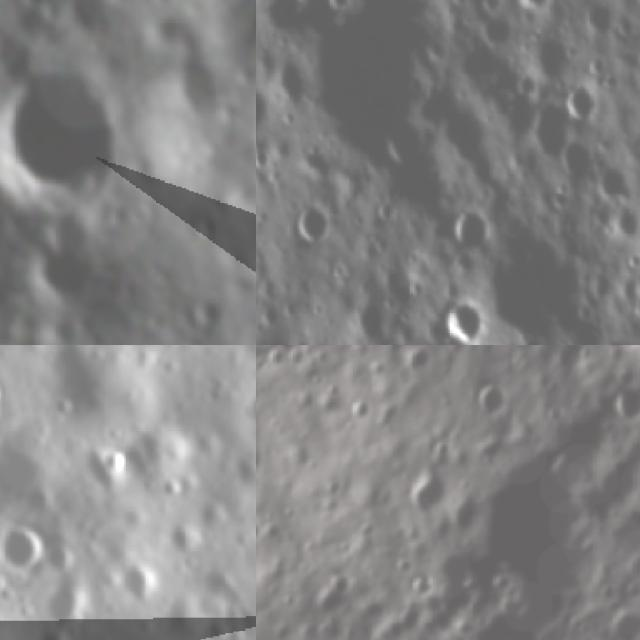crater: (282, 0, 439, 159), (449, 450, 597, 607), (0, 62, 126, 201), (29, 209, 106, 301), (20, 561, 105, 640), (172, 50, 232, 128), (102, 550, 170, 616), (0, 509, 56, 585), (432, 552, 488, 624), (148, 506, 211, 568), (522, 27, 578, 86), (532, 95, 575, 158), (312, 565, 354, 625), (292, 200, 341, 249), (448, 199, 492, 253), (226, 373, 256, 452), (351, 295, 396, 345), (88, 441, 134, 488), (186, 288, 230, 336), (442, 293, 482, 345), (470, 378, 516, 422), (263, 0, 323, 32), (591, 161, 636, 203), (406, 473, 448, 518), (560, 80, 606, 120), (556, 138, 598, 178), (0, 357, 20, 439), (608, 385, 640, 431), (581, 0, 622, 34), (402, 345, 440, 380), (609, 199, 640, 239), (604, 612, 640, 640), (344, 397, 376, 428), (455, 624, 509, 640), (262, 345, 291, 370), (595, 329, 640, 345), (256, 75, 270, 126), (514, 0, 554, 11)
